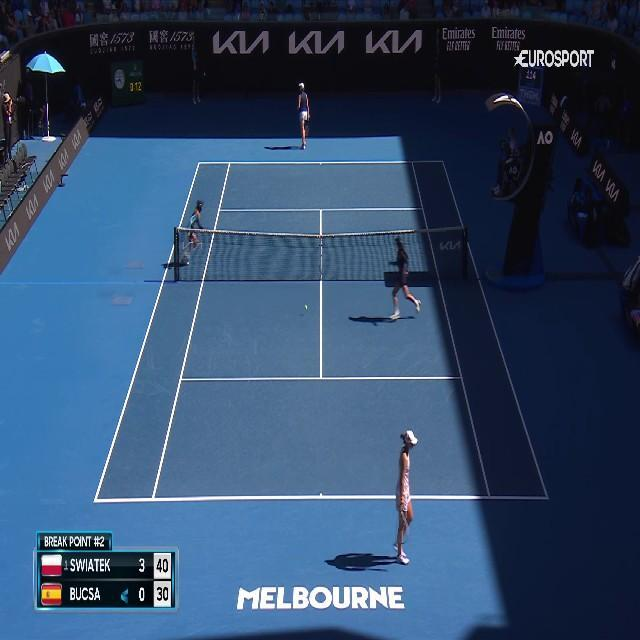left side: (94, 162, 230, 502), (412, 161, 548, 499)
player: (392, 428, 419, 568), (296, 81, 313, 152)
